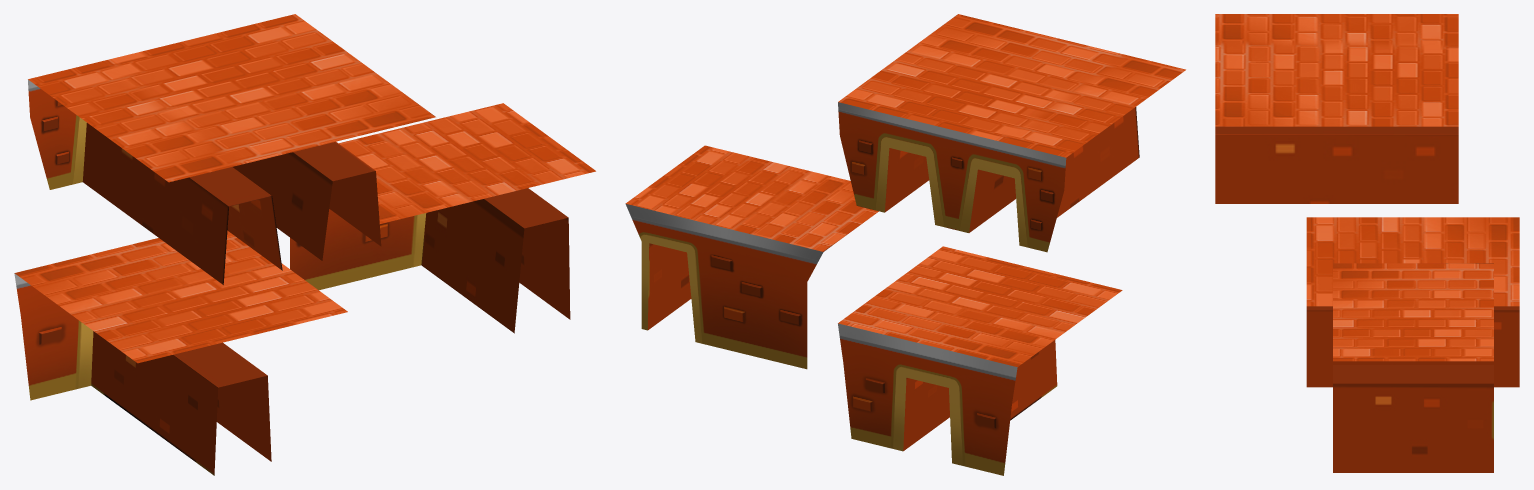
The model's file is Ham.fbx.
3 renders of one model, left to right at view 1: azimuth 30°, elevation 25°; view 2: azimuth 150°, elevation 25°; view 3: azimuth 270°, elevation 25°, orthographic. The views are drawn at different scales.
Visible parts, largest first — view 1: ham1, ham2, ham3; view 2: ham1, ham2, ham3; view 3: ham1, ham3, ham2.
Part boxes in pixels (x1,y1,x2,y2): ham1: (28, 14, 435, 284); ham2: (14, 230, 347, 475); ham3: (290, 103, 595, 333); ham1: (838, 14, 1185, 252); ham2: (838, 246, 1122, 475); ham3: (625, 145, 878, 369); ham1: (1215, 14, 1458, 203); ham3: (1333, 263, 1493, 472); ham2: (1306, 217, 1519, 387).
Size of the model in its own units: 139 by 95.63 by 85.72.
